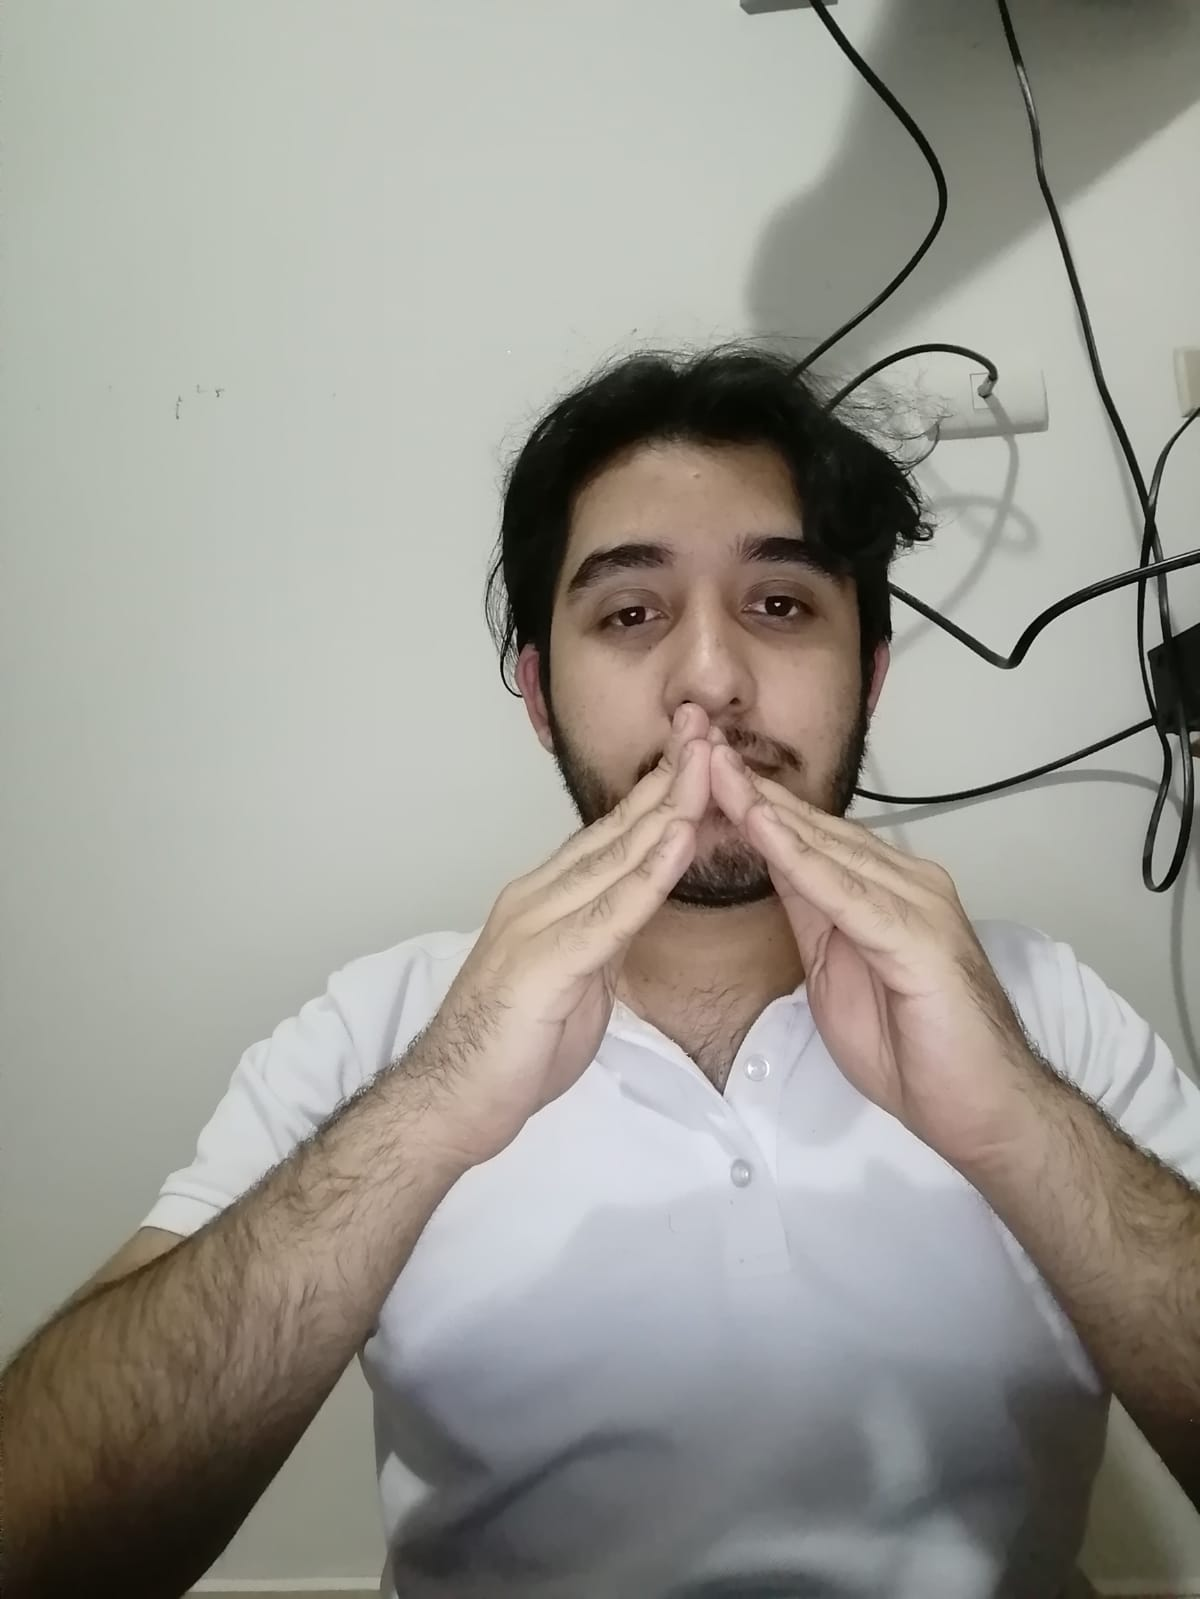House: (416, 701, 1035, 1205)
